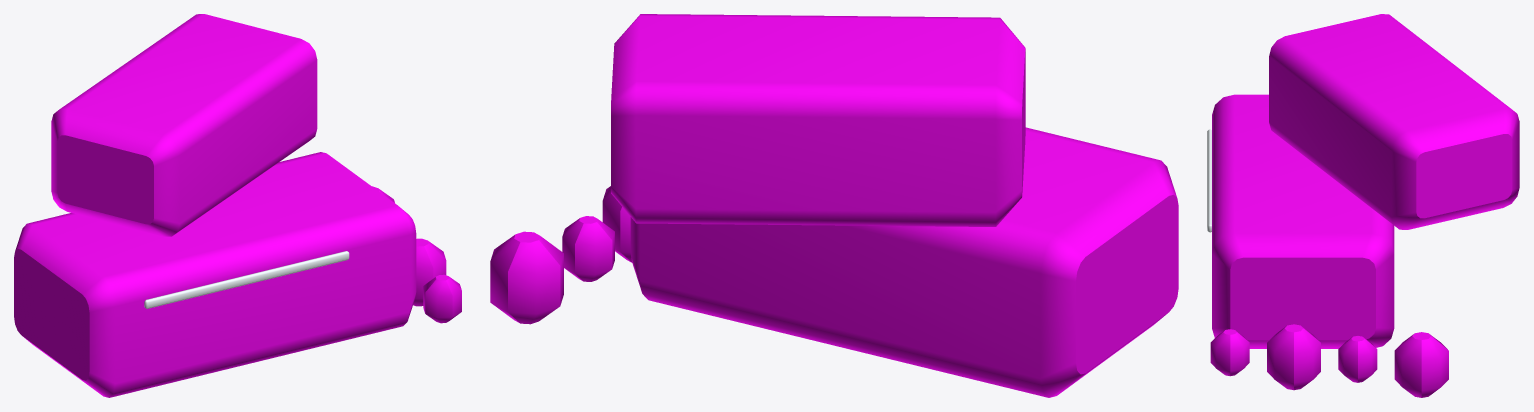
The model's file is objet_graphite.glb.
3 views of the same model, side by side, from view 1: azimuth 30°, elevation 25°; view 2: azimuth 150°, elevation 25°; view 3: azimuth 270°, elevation 25° (orthographic). The views are drawn at different scales.
Visible parts, largest first — view 1: graphite_teinte.002, graphite_reflet.002; view 2: graphite_teinte.002; view 3: graphite_teinte.002, graphite_reflet.002.
Part boxes in pixels (box(x1,y1,x2,y2)): graphite_teinte.002: box(14, 14, 461, 397); graphite_reflet.002: box(144, 251, 349, 308); graphite_teinte.002: box(490, 14, 1178, 397); graphite_teinte.002: box(1210, 14, 1519, 397); graphite_reflet.002: box(1207, 129, 1211, 232).
Size of the model in its own units: 0.247 by 0.1375 by 0.1712.
